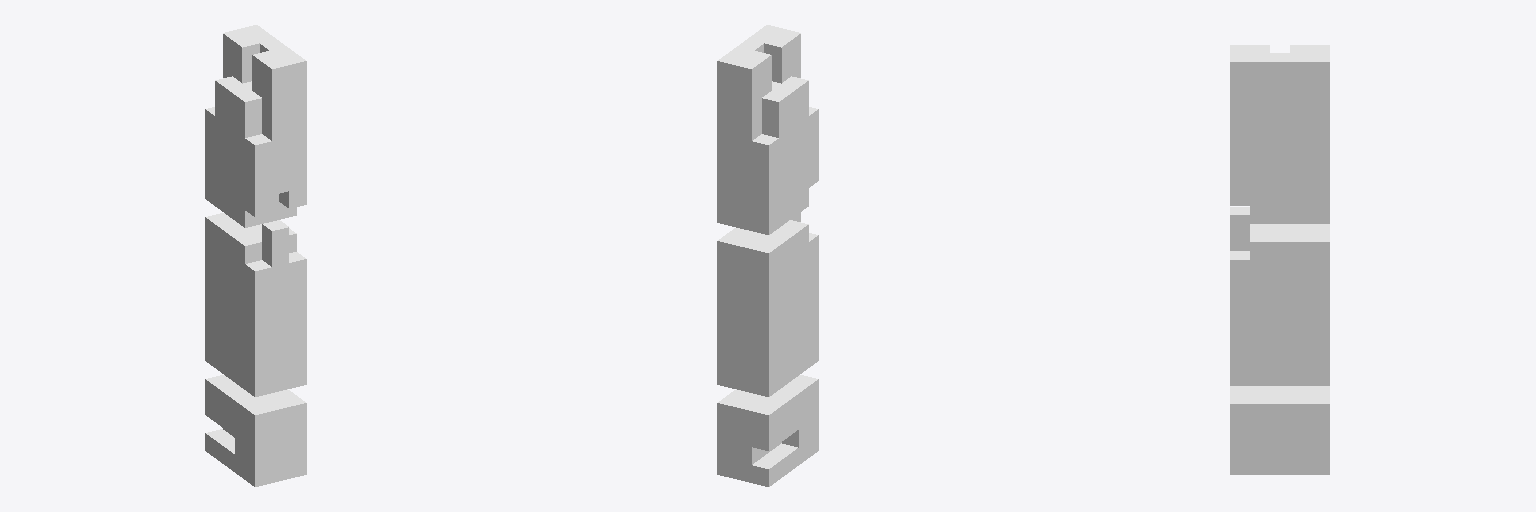
Rendered from Robot_Arm.obj.
The picture shows the model from 3 angles: view 1: azimuth 30°, elevation 25°; view 2: azimuth 150°, elevation 25°; view 3: azimuth 270°, elevation 25°; orthographic projection.
Size of the model in its own units: 3 by 23 by 5.